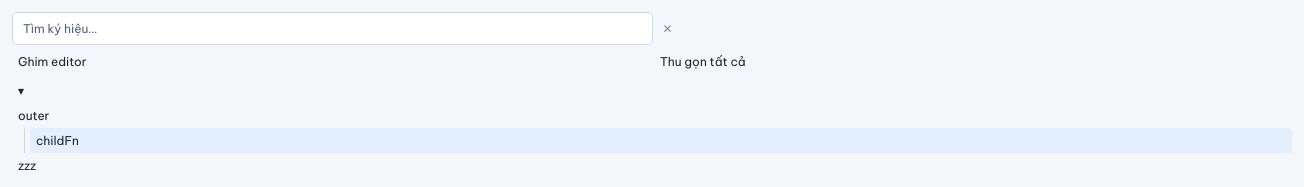
OutlinePanel › keeps a branch collapsed when the cursor stays in the same symbol
This screenshot has width=1304, height=187.
Click the button named "Thu gọn outer" at (21,90), box [12,78,1292,103]
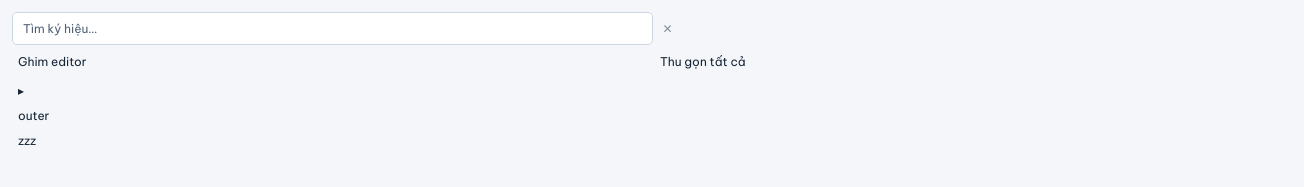
Expected: the button "childFn" is gone
Expected: the button named "Mở rộng outer" is collapsed, [12,78,1292,103]
